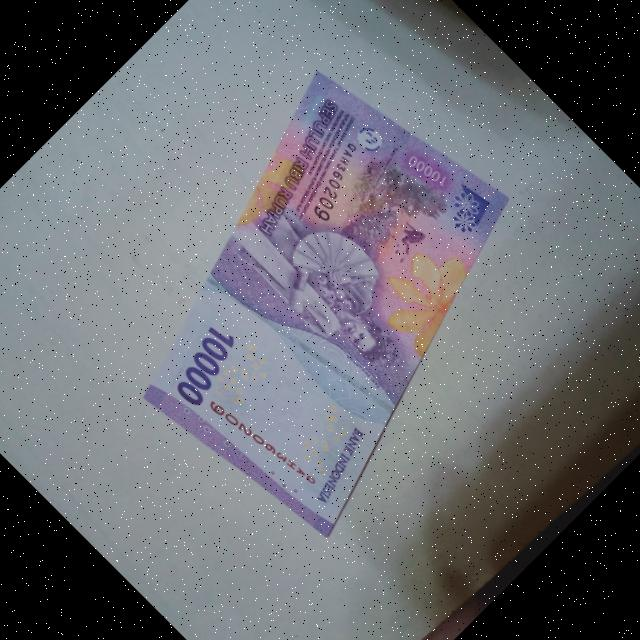10K: (57, 29, 604, 575)
